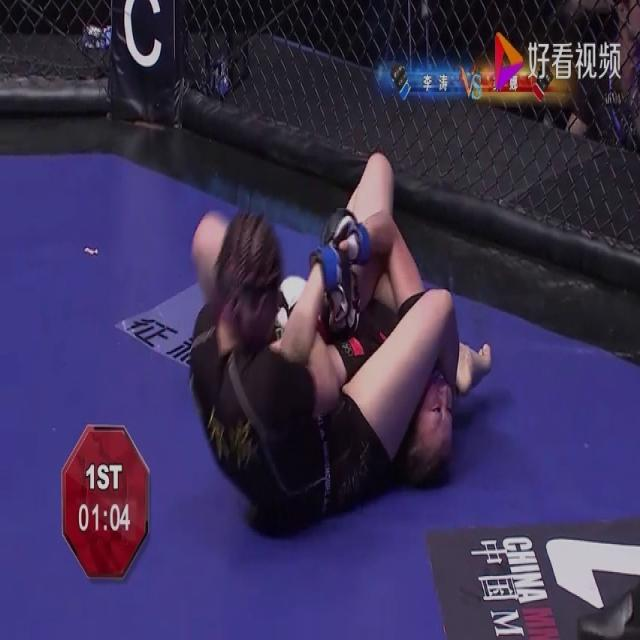fight: (162, 135, 507, 545)
